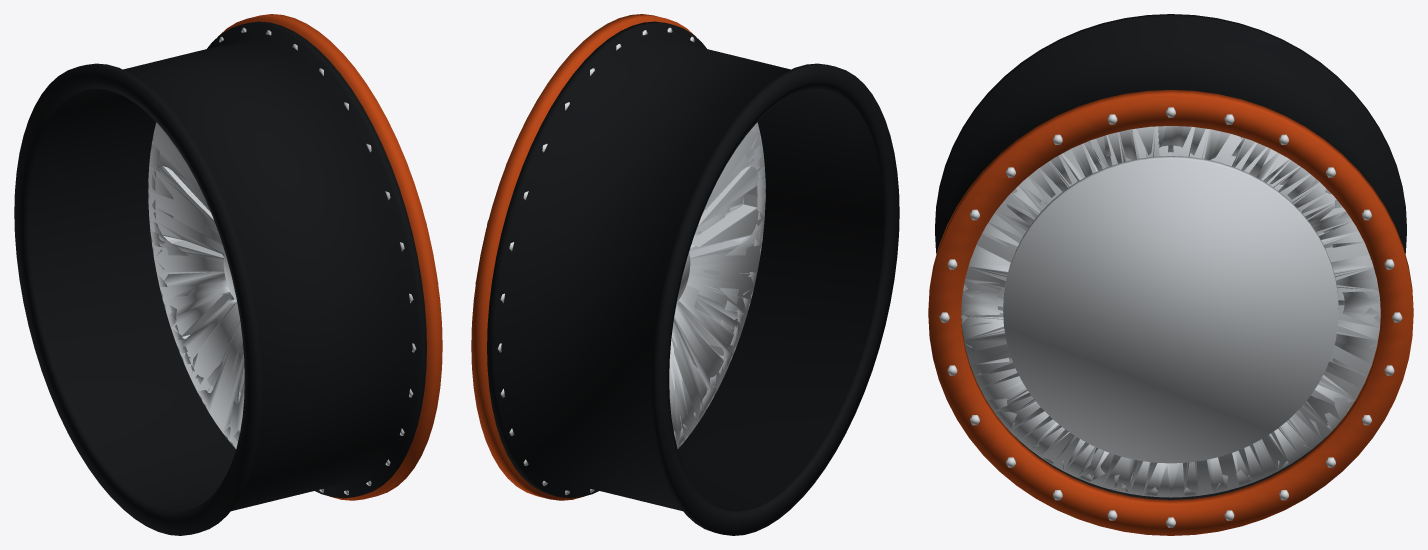
File: rims.glb
3 views of the same model, side by side, from view 1: azimuth 30°, elevation 25°; view 2: azimuth 150°, elevation 25°; view 3: azimuth 270°, elevation 25° (orthographic).
Parts seen in each view (by area): view 1: barrel.012, ring.001, face.016, face.006, face.001, face.005, face.003, face.014, face.015; view 2: barrel.012, ring.001, face.006, face.015, face.005, face.001, face.014, face.016, face.004, face.003; view 3: moonDisc, ring.001, barrel.012, face.012, face.013, face.008, face.007, face.002, face.009, face.017.
Part boxes in pixels (<box>): barrel.012: <box>14,21,426,535</box>; ring.001: <box>218,14,442,500</box>; face.016: <box>148,166,240,391</box>; face.006: <box>152,122,244,432</box>; face.001: <box>148,142,244,448</box>; face.005: <box>152,126,237,388</box>; face.003: <box>154,259,230,440</box>; face.014: <box>151,155,241,442</box>; face.015: <box>148,133,235,448</box>; barrel.012: <box>487,21,899,535</box>; ring.001: <box>471,14,695,500</box>; face.006: <box>669,122,761,440</box>; face.015: <box>671,133,765,448</box>; face.005: <box>673,131,762,411</box>; face.001: <box>676,123,765,445</box>; face.014: <box>674,154,763,441</box>; face.016: <box>669,132,759,448</box>; face.004: <box>678,127,763,448</box>; face.003: <box>676,132,765,389</box>; moonDisc: <box>1003,156,1338,463</box>; ring.001: <box>928,90,1413,535</box>; barrel.012: <box>935,14,1406,499</box>; face.012: <box>961,126,1380,497</box>; face.013: <box>964,126,1379,497</box>; face.008: <box>961,128,1380,497</box>; face.007: <box>978,129,1371,490</box>; face.002: <box>964,127,1377,497</box>; face.009: <box>961,129,1364,493</box>; face.017: <box>961,132,1380,496</box>.
Size of the model in its own units: 0.198 by 0.4464 by 0.4464.
